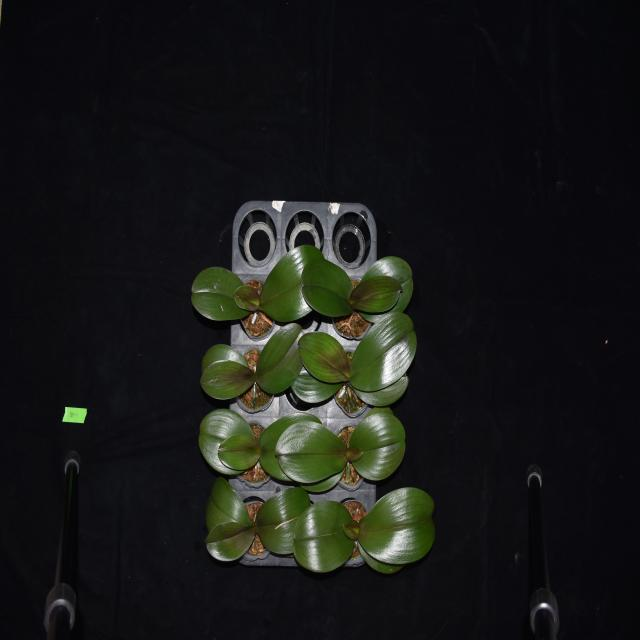leaf: (358, 486, 436, 565), (350, 310, 418, 390), (261, 243, 327, 323), (274, 418, 346, 482), (260, 411, 323, 482), (354, 255, 417, 323), (292, 500, 354, 569), (254, 486, 313, 556), (350, 412, 408, 481), (198, 408, 255, 477), (189, 260, 251, 322), (256, 322, 304, 394), (301, 258, 351, 318), (296, 332, 351, 384), (206, 476, 252, 532), (198, 359, 256, 399), (351, 368, 408, 407), (289, 368, 348, 403), (349, 275, 403, 313), (204, 522, 256, 558), (202, 344, 249, 377), (217, 433, 260, 467), (357, 542, 401, 571), (296, 471, 349, 494), (231, 284, 260, 314), (344, 442, 366, 465), (342, 518, 360, 540)
